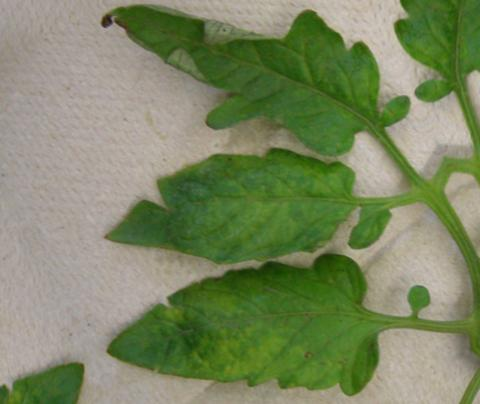Tomato leaf mosaic virus: (94, 0, 408, 224), (90, 201, 425, 404), (96, 108, 369, 331)
